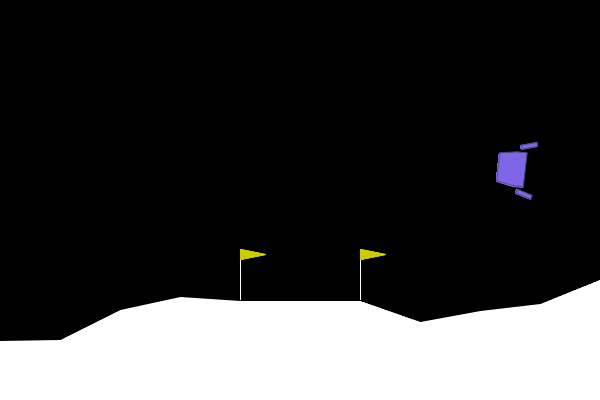lander: (492, 137, 539, 201)
